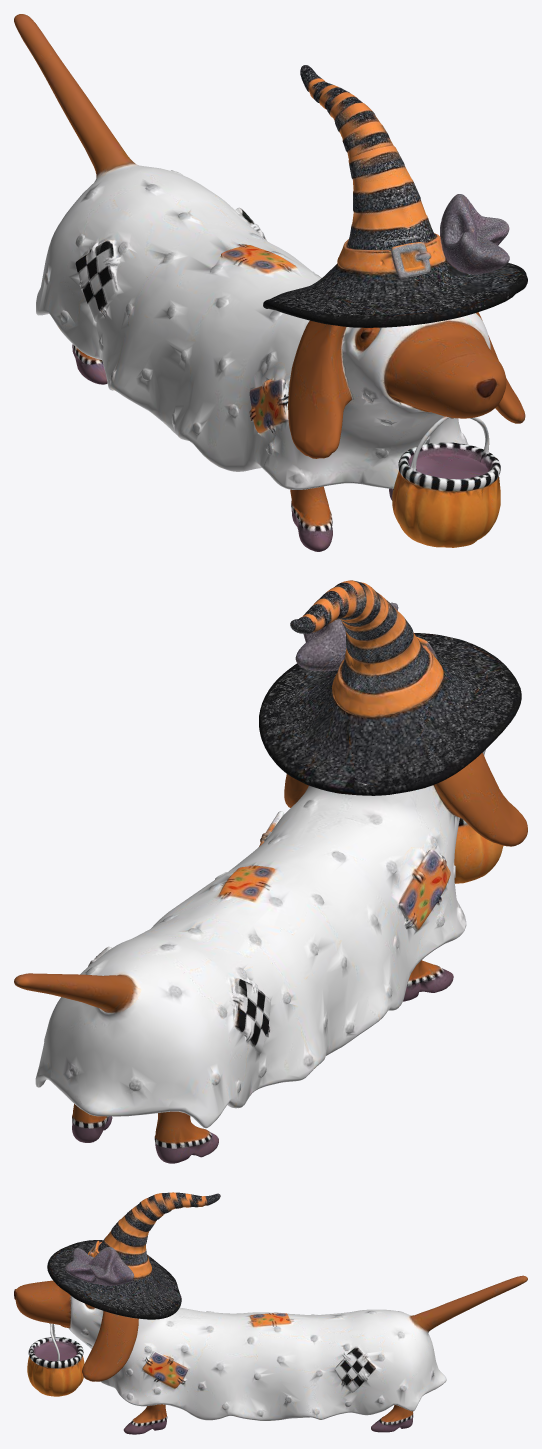
The model's file is halloween-witch-dog.glb.
3 renders of one model, top to bottom at view 1: azimuth 30°, elevation 25°; view 2: azimuth 150°, elevation 25°; view 3: azimuth 270°, elevation 25°, orthographic. The views are drawn at different scales.
Bounding box in the file's own units: 0.5447 × 0.9142 × 1.9.
1 material, 1 textured.
